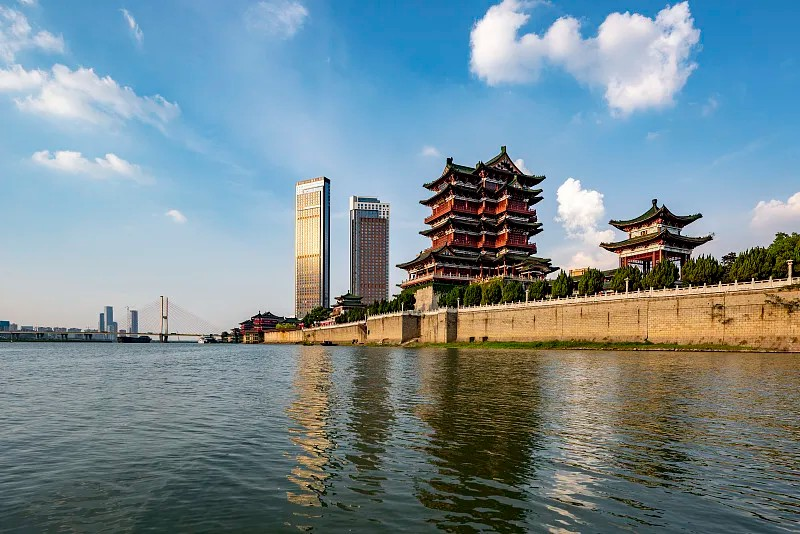Teng: (396, 146, 560, 288)
